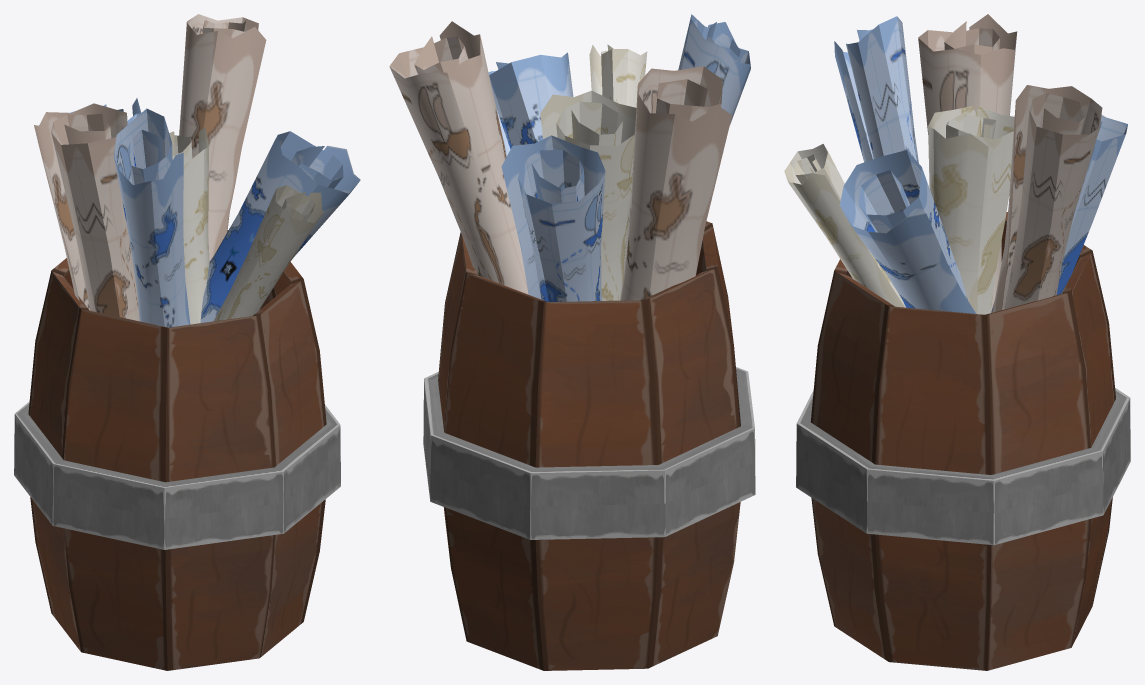
The model's file is Maps_2.fbx.
The picture shows the model from 3 angles, left to right: view 1: azimuth 30°, elevation 25°; view 2: azimuth 150°, elevation 25°; view 3: azimuth 270°, elevation 25°; orthographic projection. The views are drawn at different scales.
Parts seen in each view (by area): view 1: maps; view 2: maps; view 3: maps.
Boxes of the visible parts, x1,y1,x2,y2 form: maps: (14,14,360,670); maps: (389,14,755,670); maps: (784,14,1130,670).
Size of the model in its own units: 144 by 268 by 148.
